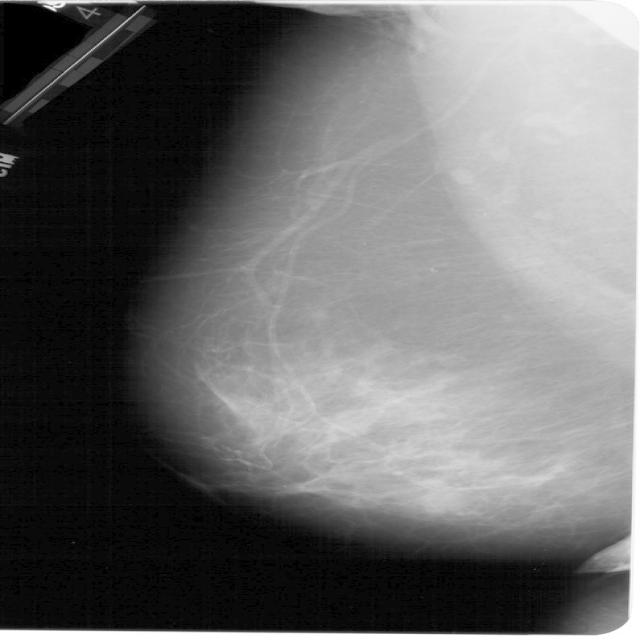tumour: (413, 478, 471, 514)
